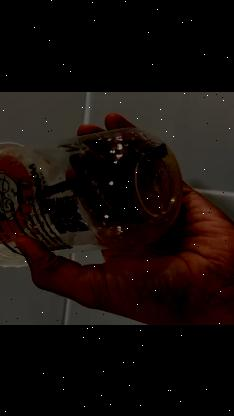Others: (0, 125, 184, 266)
